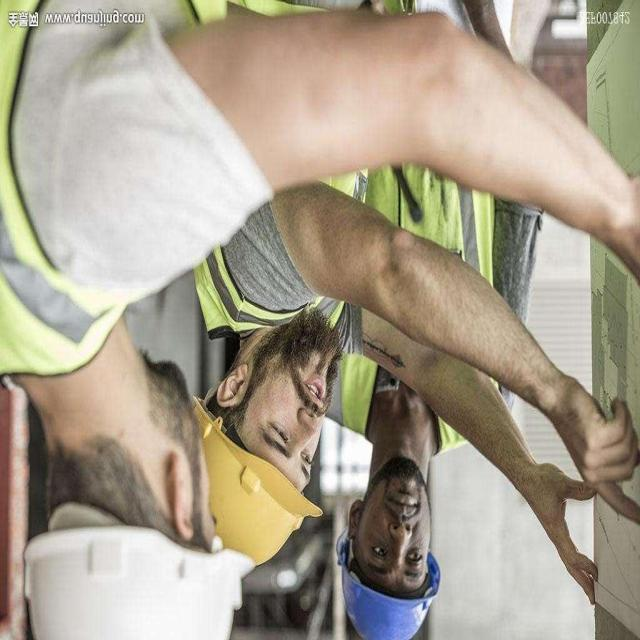helmet: (27, 508, 255, 640), (327, 537, 451, 640)
